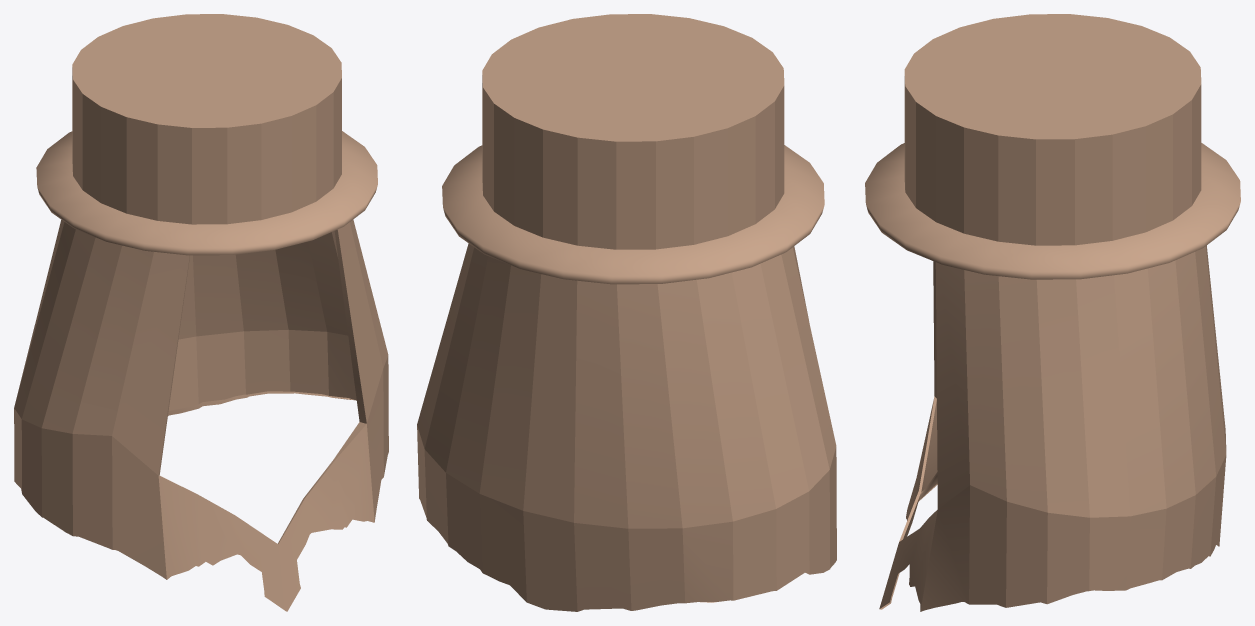
The model's file is Barret.fbx.
3 renders of one model, left to right at view 1: azimuth 30°, elevation 25°; view 2: azimuth 150°, elevation 25°; view 3: azimuth 270°, elevation 25°, orthographic. The views are drawn at different scales.
Parts seen in each view (by area): view 1: Cone001; view 2: Cone001; view 3: Cone001.
Boxes of the visible parts, <box> form: Cone001: <box>14,14,388,611</box>; Cone001: <box>417,14,836,611</box>; Cone001: <box>865,14,1240,611</box>.
Size of the model in its own units: 38.79 by 52.37 by 33.52.
